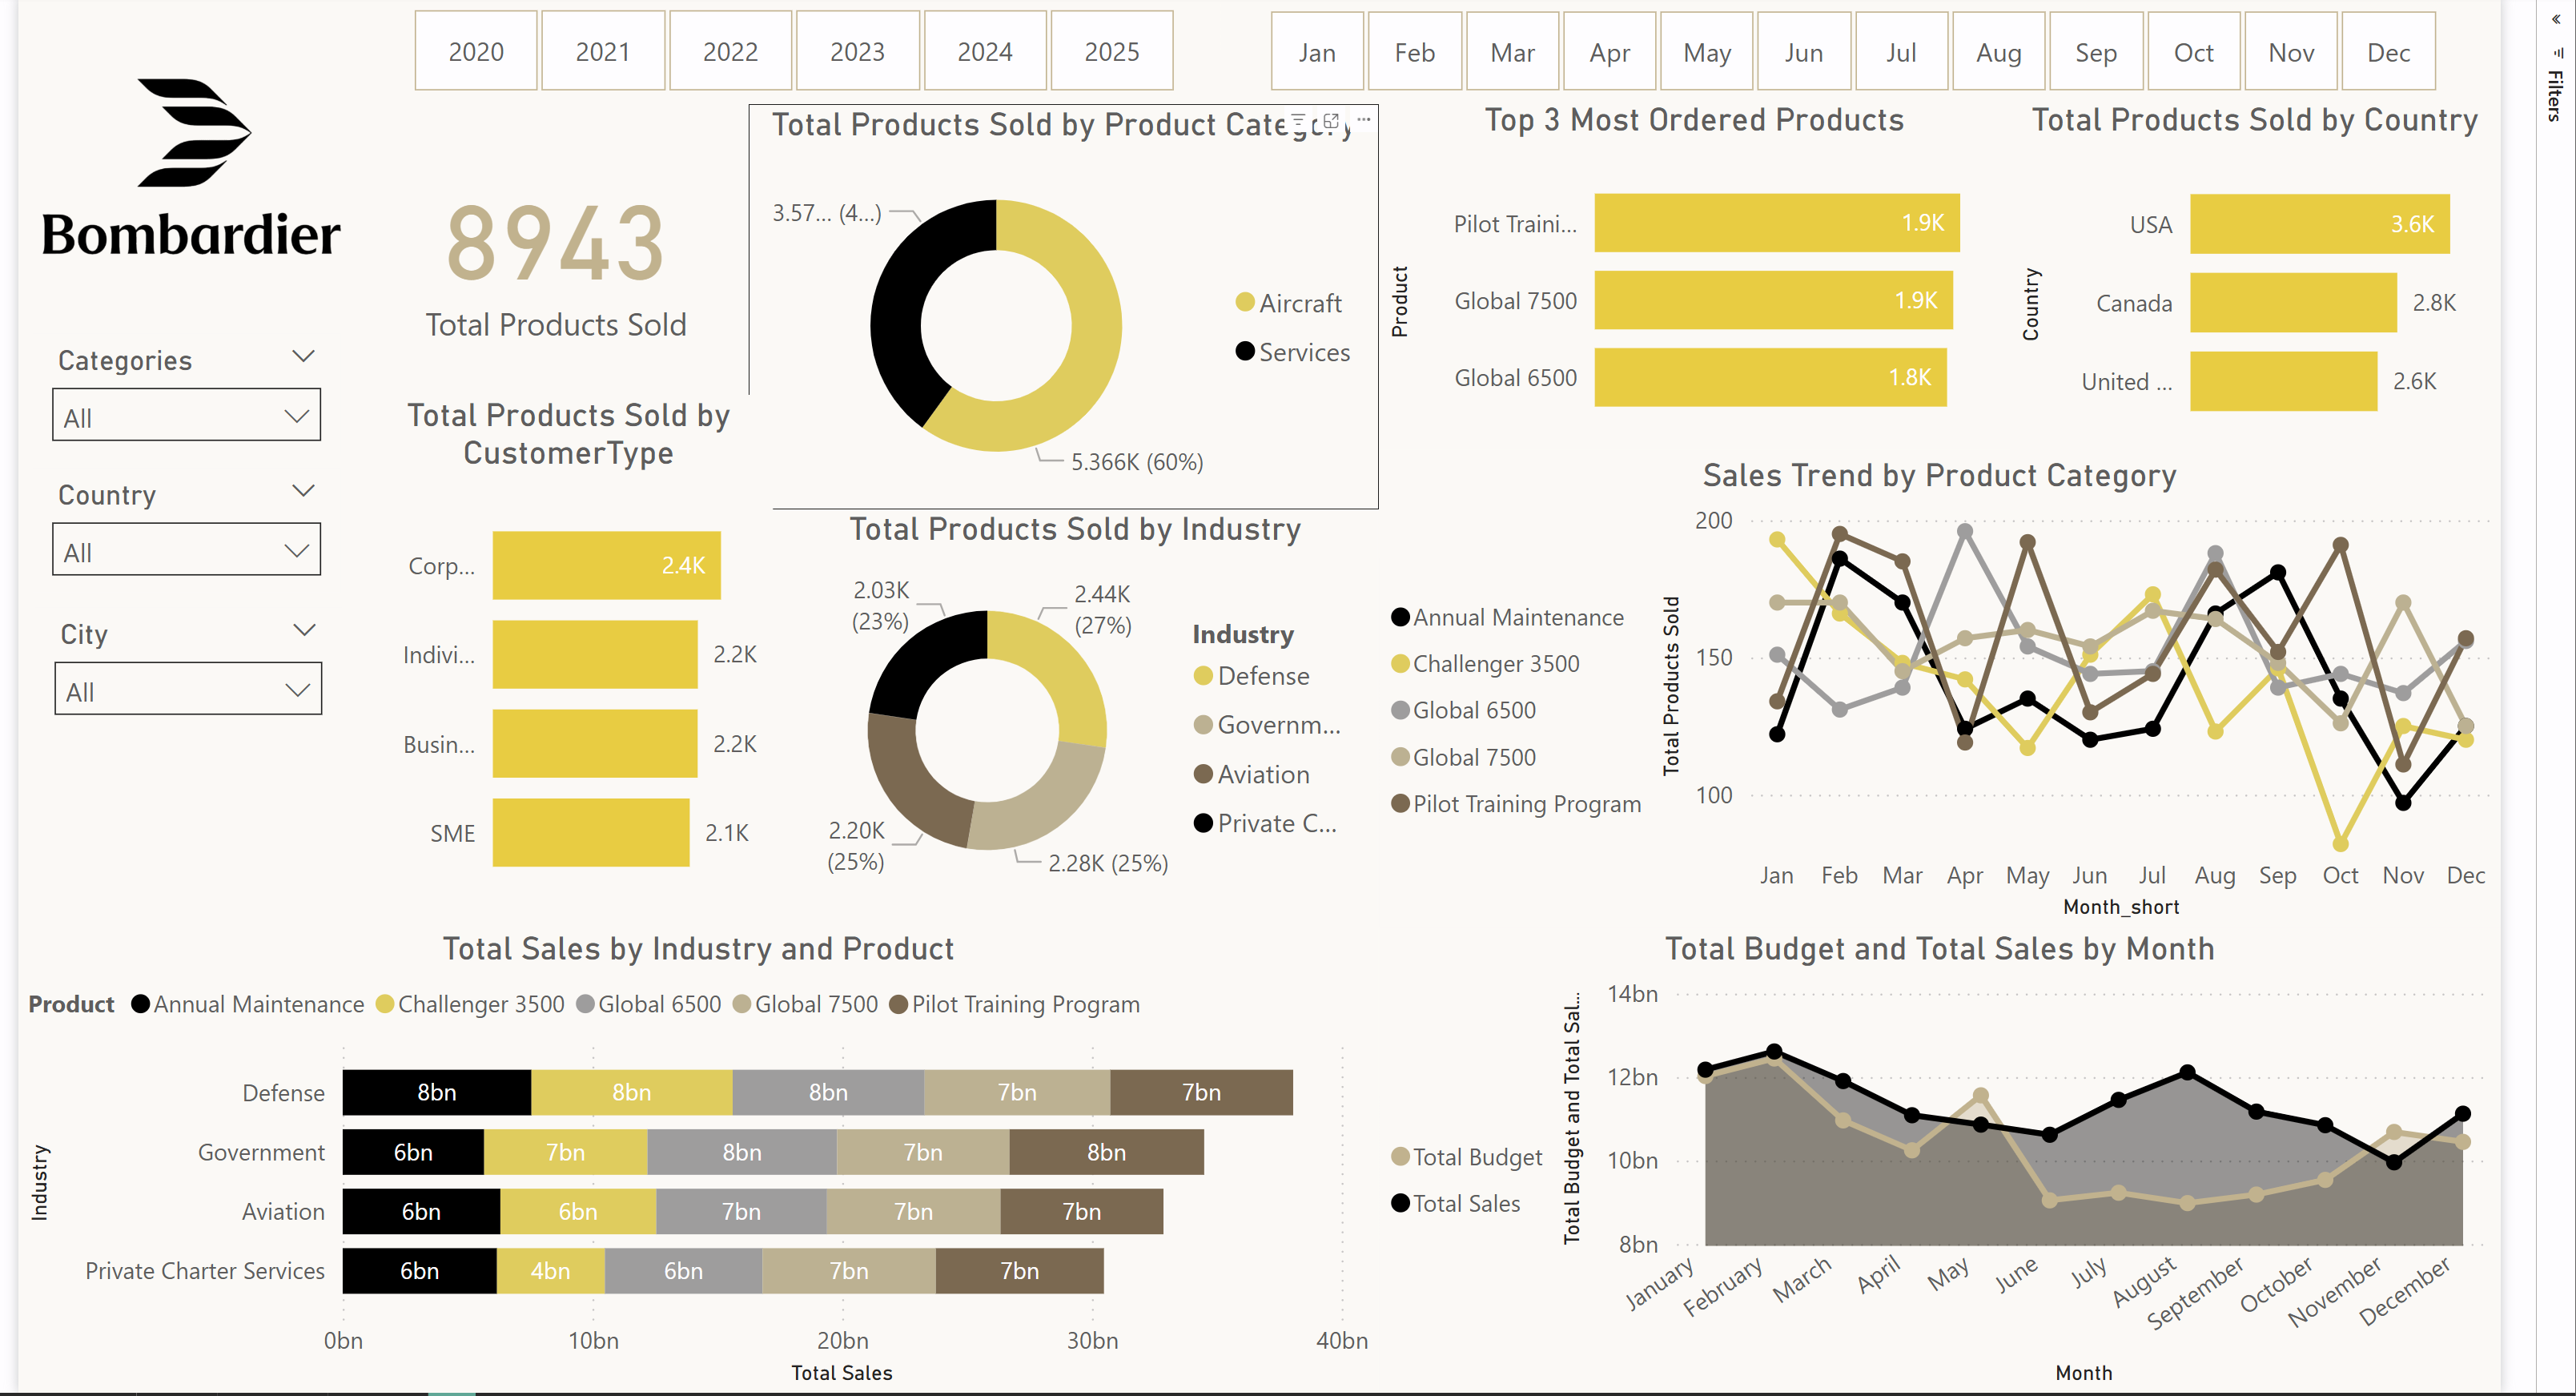

Layout of this report page (visuals, bound fields, positions):
{"tool":"powerbi","page":{"name":"Product","canvas":[1280,720],"ordinal":2},"visuals":[{"type":"donutChart","fields":{"Y":["Measure Vals.Total Products Sold"],"Category":["Customers.Industry"]},"box":[389.2,264.7,312.3,208.9],"z":0},{"type":"areaChart","fields":{"Category":["Calendar.Date.Variation.Date Hierarchy.Month"],"Y":["Measure Vals.Total Budget","Measure Vals.Total Sales"]},"box":[701.5,480.3,578.3,239.5],"z":1000},{"type":"slicer","fields":{"Values":["Calendar.CalendarYear"]},"box":[178.3,0,441.6,55.8],"z":3000},{"type":"slicer","fields":{"Values":["Calendar.Month_short"]},"box":[619.8,0.7,650.4,55.1],"z":4000},{"type":"barChart","title":"Top 3 Most Ordered Products","fields":{"Y":["Measure Vals.Total Products Sold"],"Category":["Products.Product"]},"box":[701.5,53.1,325.2,181],"z":5000},{"type":"slicer","fields":{"Values":["Customers.Country"]},"box":[7.7,243.1,158.6,64.3],"z":6000},{"type":"slicer","fields":{"Values":["Customers.City"]},"box":[8.4,315.3,157.9,75],"z":7000},{"type":"slicer","fields":{"Values":["Products.Product_Category"]},"box":[7.7,173.9,158.6,62.9],"z":8000},{"type":"barChart","fields":{"Y":["Measure Vals.Total Products Sold"],"Category":["Customers.Country"]},"box":[1026.7,53.1,253.1,183.7],"z":9000},{"type":"barChart","fields":{"Category":["Customers.Industry"],"Series":["Products.Product"],"Y":["Measure Vals.Total Sales"]},"box":[0,480.3,701.5,239.5],"z":10000},{"type":"donutChart","title":"Total Products Sold by Product Category","fields":{"Y":["Measure Vals.Total Products Sold"],"Category":["Products.Product_Category"]},"box":[376.2,55.8,325.2,208.9],"z":11000},{"type":"lineChart","title":"Sales Trend by Product Category","fields":{"Category":["Calendar.Month_short"],"Series":["Products.Product"],"Y":["Measure Vals.Total Products Sold"]},"box":[701.5,236.8,578.3,243.6],"z":12000},{"type":"card","fields":{"Values":["Measure Vals.Total Products Sold"]},"box":[178.3,55.8,198,149.7],"z":13000},{"type":"barChart","fields":{"Y":["Measure Vals.Total Products Sold"],"Category":["Customers.CustomerType"]},"box":[178.3,205.5,210.9,268.1],"z":14000},{"type":"image","box":[0.6,0.6,171.5,173.4],"z":14001}]}

Visuals, with their boxes on the page's 1280x720 design canvas (x1, y1, x2, y2). These are canvas units, not pixel positions in the 2576x1396 screenshot, which may show the page scaled, cropped or inside an application window:
donutChart - Measure Vals.Total Products Sold x Customers.Industry: {"x1": 389, "y1": 265, "x2": 702, "y2": 474}
areaChart - Calendar.Date.Variation.Date Hierarchy.Month x Measure Vals.Total Budget: {"x1": 702, "y1": 480, "x2": 1280, "y2": 720}
slicer - Calendar.CalendarYear: {"x1": 178, "y1": 0, "x2": 620, "y2": 56}
slicer - Calendar.Month_short: {"x1": 620, "y1": 1, "x2": 1270, "y2": 56}
"Top 3 Most Ordered Products" barChart: {"x1": 702, "y1": 53, "x2": 1027, "y2": 234}
slicer - Customers.Country: {"x1": 8, "y1": 243, "x2": 166, "y2": 307}
slicer - Customers.City: {"x1": 8, "y1": 315, "x2": 166, "y2": 390}
slicer - Products.Product_Category: {"x1": 8, "y1": 174, "x2": 166, "y2": 237}
barChart - Measure Vals.Total Products Sold x Customers.Country: {"x1": 1027, "y1": 53, "x2": 1280, "y2": 237}
barChart - Customers.Industry x Products.Product: {"x1": 0, "y1": 480, "x2": 702, "y2": 720}
"Total Products Sold by Product Category" donutChart: {"x1": 376, "y1": 56, "x2": 701, "y2": 265}
"Sales Trend by Product Category" lineChart: {"x1": 702, "y1": 237, "x2": 1280, "y2": 480}
card - Measure Vals.Total Products Sold: {"x1": 178, "y1": 56, "x2": 376, "y2": 206}
barChart - Measure Vals.Total Products Sold x Customers.CustomerType: {"x1": 178, "y1": 206, "x2": 389, "y2": 474}
image: {"x1": 1, "y1": 1, "x2": 172, "y2": 174}
